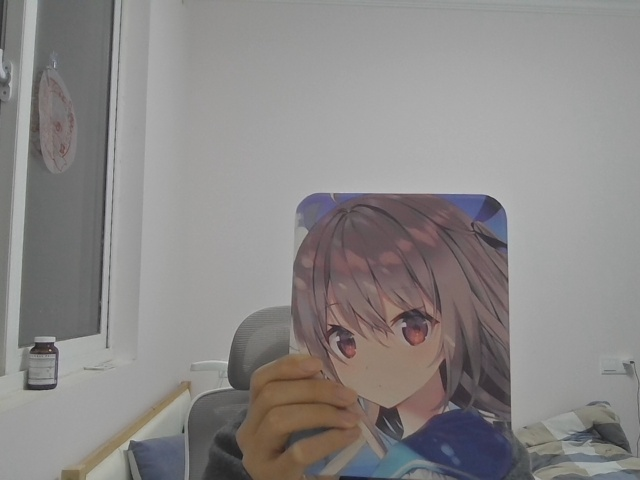face: (315, 268, 459, 419)
